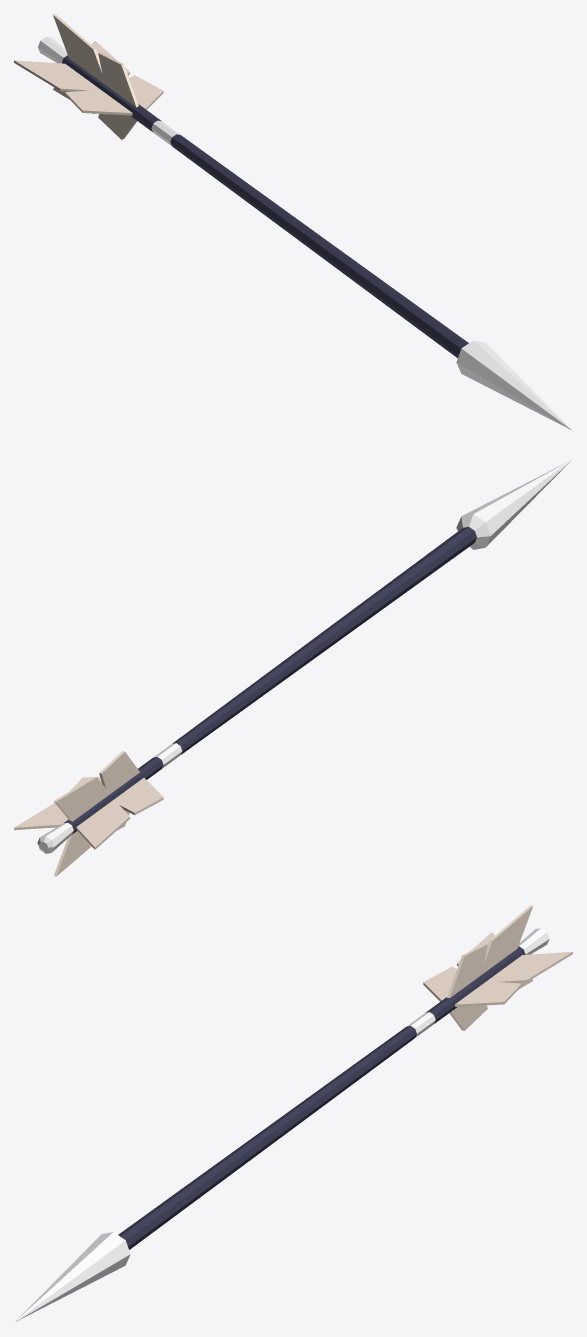
File: SFFA_Arrow_Iron_001.fbx
3 renders of one model, top to bottom at view 1: azimuth 30°, elevation 25°; view 2: azimuth 150°, elevation 25°; view 3: azimuth 330°, elevation 25°, orthographic.
Parts seen in each view (by area): view 1: SFFA_Arrow_Iron_001; view 2: SFFA_Arrow_Iron_001; view 3: SFFA_Arrow_Iron_001.
Boxes of the visible parts, x1,y1,x2,y2 form: SFFA_Arrow_Iron_001: (14,14,572,430); SFFA_Arrow_Iron_001: (14,459,572,876); SFFA_Arrow_Iron_001: (14,905,572,1322).
Bounding box in the file's own units: 6.32 × 5.58 × 71.39.
